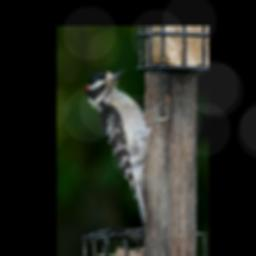Woodpecker: (85, 69, 170, 232)
